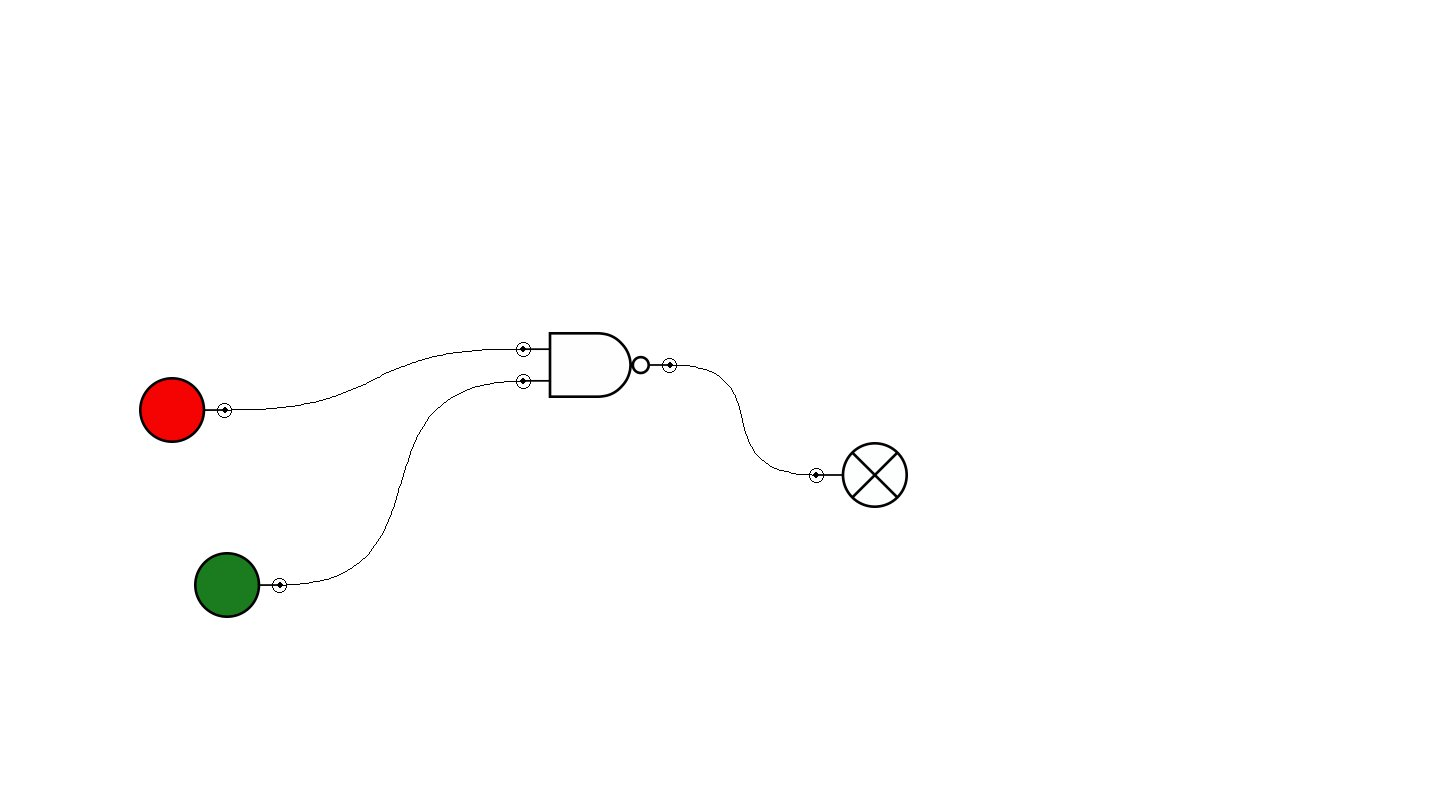bulb: (809, 442, 908, 508)
nand: (516, 332, 677, 398)
switch_False: (139, 377, 232, 443)
switch_True: (194, 552, 287, 618)
